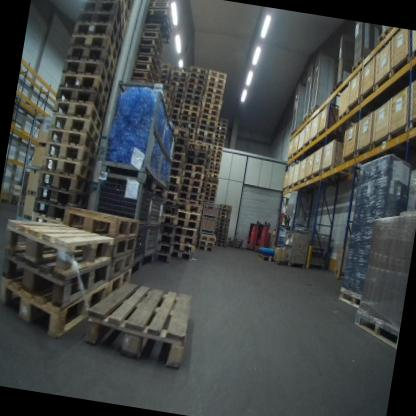pallet: (82, 268, 196, 366), (0, 200, 116, 293), (0, 265, 104, 345), (0, 242, 112, 312), (59, 201, 139, 247), (77, 261, 131, 307), (347, 308, 400, 354), (57, 56, 114, 97), (68, 20, 122, 62), (71, 9, 125, 50), (63, 42, 116, 83), (76, 0, 129, 41), (56, 70, 111, 108), (66, 31, 119, 68), (53, 85, 107, 120), (43, 126, 101, 158), (46, 113, 102, 145), (76, 0, 131, 32), (50, 98, 104, 130), (42, 142, 97, 173), (35, 171, 91, 199), (32, 198, 85, 226), (31, 185, 89, 210), (99, 248, 134, 287), (38, 158, 91, 182), (141, 13, 175, 46), (145, 0, 180, 31), (99, 232, 135, 262), (144, 7, 175, 35), (79, 0, 132, 16), (334, 287, 365, 311), (130, 69, 160, 90), (140, 27, 165, 52), (139, 35, 164, 59), (27, 211, 59, 227), (134, 53, 159, 73), (137, 43, 160, 64), (348, 53, 367, 78), (375, 25, 394, 48), (133, 61, 157, 78), (170, 218, 198, 231), (168, 226, 196, 239), (176, 201, 202, 214), (169, 241, 194, 254), (329, 79, 344, 100), (158, 202, 179, 216), (174, 210, 198, 222), (153, 242, 172, 256), (185, 148, 207, 160), (179, 176, 203, 187), (168, 250, 192, 261), (169, 126, 189, 139), (185, 140, 208, 151), (178, 183, 201, 194), (156, 232, 174, 246), (163, 182, 181, 196), (170, 235, 195, 245), (253, 251, 272, 264), (157, 224, 176, 237), (158, 214, 178, 226), (182, 163, 206, 173), (160, 192, 178, 205), (184, 156, 207, 166), (181, 170, 204, 180), (194, 134, 213, 146), (152, 254, 172, 265), (194, 128, 215, 138), (189, 64, 208, 75), (167, 167, 183, 180), (177, 191, 200, 200), (409, 34, 416, 62), (165, 174, 180, 187), (176, 196, 199, 204), (307, 103, 317, 121), (173, 135, 188, 147), (203, 86, 223, 95), (199, 107, 219, 116), (169, 159, 185, 170), (169, 68, 188, 77), (179, 109, 198, 118), (207, 70, 226, 79), (206, 75, 225, 84), (197, 118, 216, 127), (171, 150, 185, 162), (195, 124, 216, 132), (171, 144, 186, 155), (197, 239, 215, 248), (184, 87, 202, 96), (181, 103, 199, 112), (178, 115, 196, 124), (167, 88, 177, 104), (182, 92, 202, 100), (202, 92, 222, 100), (201, 97, 221, 105), (271, 256, 285, 267), (198, 234, 217, 242), (187, 71, 206, 79), (186, 77, 205, 85), (182, 97, 201, 105), (205, 81, 224, 89), (164, 100, 174, 115), (168, 74, 186, 82), (166, 94, 175, 110), (186, 83, 204, 91), (200, 103, 220, 110), (172, 63, 189, 71), (169, 79, 185, 87), (168, 84, 184, 92), (288, 127, 298, 139), (199, 114, 218, 120), (196, 245, 212, 252), (226, 237, 244, 243), (205, 182, 218, 190), (218, 202, 232, 209), (179, 122, 195, 128), (225, 240, 241, 246), (225, 244, 240, 250), (300, 114, 308, 125), (160, 63, 171, 71), (207, 177, 219, 184), (159, 69, 170, 76), (205, 190, 216, 197), (158, 79, 167, 87), (211, 148, 223, 154), (209, 160, 221, 166), (204, 187, 216, 193), (218, 213, 230, 219), (171, 96, 181, 103), (217, 116, 227, 123), (204, 195, 214, 202), (215, 125, 226, 131), (214, 133, 225, 139), (213, 137, 224, 143), (210, 152, 221, 158), (210, 156, 221, 162), (209, 164, 220, 170), (187, 128, 195, 136), (169, 112, 178, 119), (158, 74, 168, 80), (216, 121, 226, 127), (215, 129, 225, 135), (208, 168, 218, 174), (208, 172, 218, 178), (219, 207, 231, 212), (218, 210, 230, 215), (217, 222, 229, 227), (172, 102, 180, 109), (172, 92, 183, 97), (212, 141, 223, 146), (212, 145, 223, 150), (217, 225, 228, 230), (217, 229, 228, 234), (215, 242, 226, 247), (218, 218, 228, 223), (217, 232, 227, 237), (216, 235, 226, 240), (216, 239, 226, 244), (187, 135, 194, 142), (171, 107, 179, 113)
pallet_truck: (255, 219, 276, 256), (242, 216, 260, 256)
stillage: (97, 74, 172, 195), (81, 168, 157, 278), (153, 118, 181, 199), (141, 192, 169, 271), (278, 226, 310, 271), (306, 229, 333, 266), (199, 200, 220, 236)
